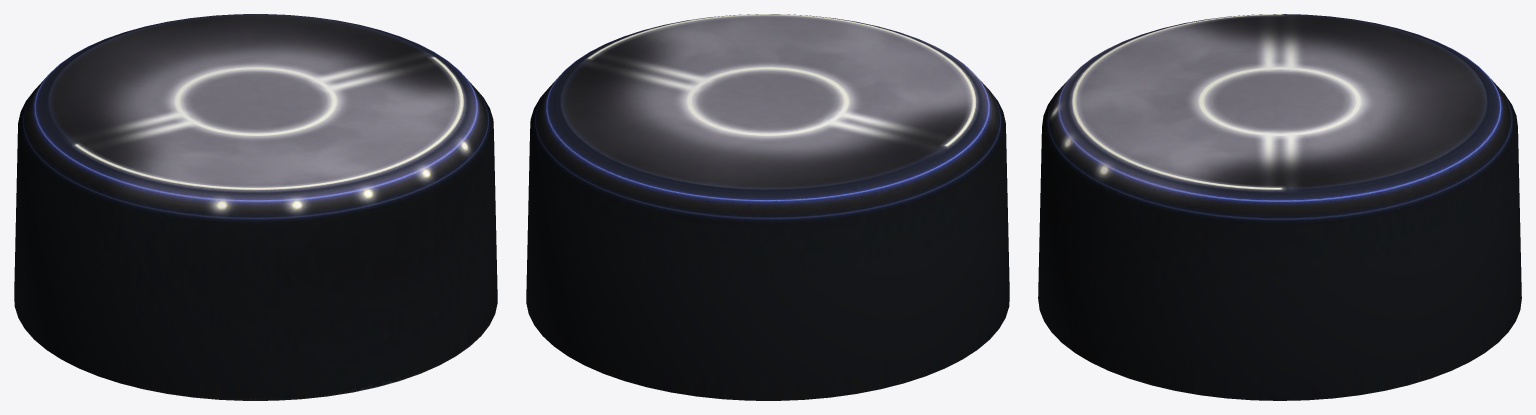
File: MeloettaEncounterStage_Aria.fbx
3 views of the same model, side by side, from view 1: azimuth 30°, elevation 25°; view 2: azimuth 150°, elevation 25°; view 3: azimuth 270°, elevation 25° (orthographic).
Parts seen in each view (by area): view 1: stage_floor; view 2: stage_floor; view 3: stage_floor.
Boxes of the visible parts, bbox=[...] form: stage_floor: bbox=[14, 14, 497, 400]; stage_floor: bbox=[526, 14, 1009, 400]; stage_floor: bbox=[1038, 14, 1521, 400].
Bounding box in the file's own units: 1.84 × 0.8258 × 1.84.
